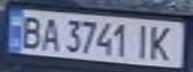1: (109, 20, 133, 57)
3: (60, 17, 81, 54)
4: (93, 19, 115, 56)
7: (78, 18, 96, 55)
A: (39, 15, 63, 52)
B: (15, 12, 45, 50)
I: (130, 21, 154, 61)
K: (145, 23, 181, 62)
